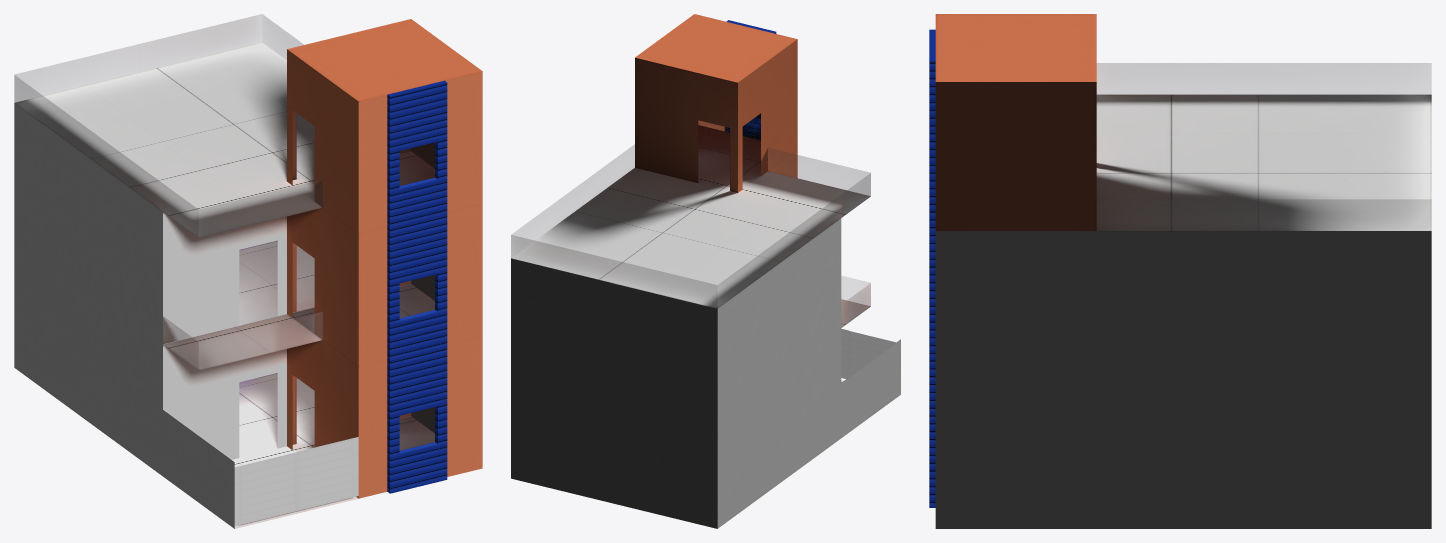
File: myntraHouse.glb
3 views of the same model, side by side, from view 1: azimuth 30°, elevation 25°; view 2: azimuth 150°, elevation 25°; view 3: azimuth 270°, elevation 25° (orthographic). The views are drawn at different scales.
Visible parts, largest first — view 1: Bounds, room7, BlueStrip, room6, room3, 1stFloor, balconyWall, groundWall, Gate2, Gate1; view 2: Bounds, room7, 1stFloor, Gate1, room6; view 3: Bounds, room7, BlueStrip.
Boxes of the visible parts, bbox=[...] form: Bounds: bbox=[14, 14, 434, 528]; room7: bbox=[287, 19, 482, 233]; BlueStrip: bbox=[387, 80, 447, 493]; room6: bbox=[287, 204, 482, 366]; room3: bbox=[287, 336, 482, 498]; 1stFloor: bbox=[163, 241, 434, 370]; balconyWall: bbox=[163, 212, 286, 343]; groundWall: bbox=[163, 344, 286, 459]; Gate2: bbox=[296, 437, 358, 510]; Gate1: bbox=[234, 452, 296, 525]; Bounds: bbox=[511, 125, 900, 528]; room7: bbox=[635, 14, 797, 192]; 1stFloor: bbox=[841, 276, 870, 327]; Gate1: bbox=[849, 331, 895, 376]; room6: bbox=[768, 149, 797, 178]; Bounds: bbox=[935, 63, 1431, 528]; room7: bbox=[935, 14, 1096, 230]; BlueStrip: bbox=[929, 29, 935, 507].
Bounding box in the file's own units: 7.92 × 12.12 × 12.34.
Materials: 13 (6 with a texture image).
